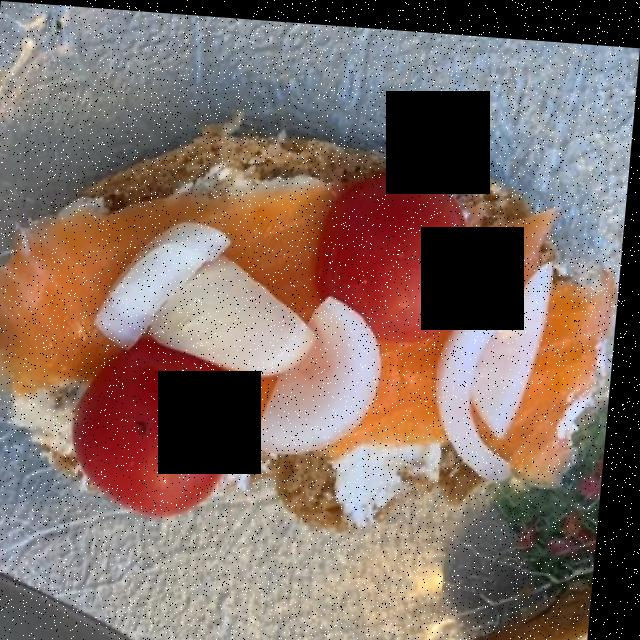bread-wholemeal: (1, 126, 597, 516)
butter: (25, 163, 441, 506)
onion: (101, 216, 554, 475)
salmon-smoked: (0, 188, 606, 464)
tomato-raw: (76, 169, 482, 523)
